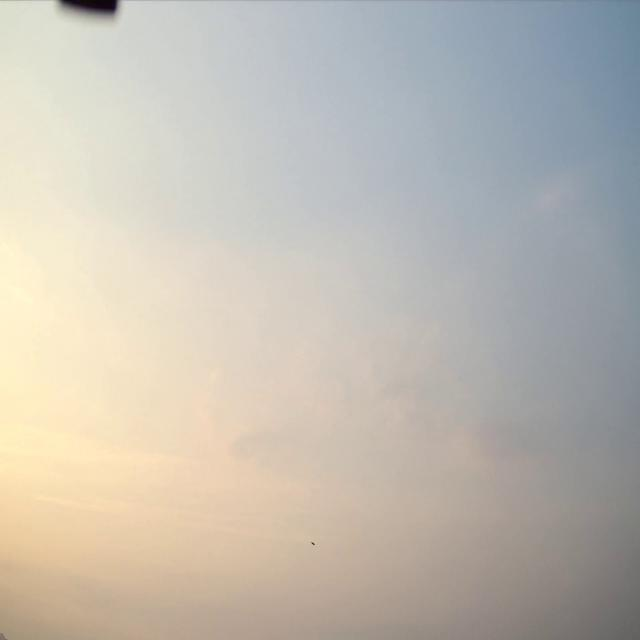drone: (310, 540, 316, 546)
